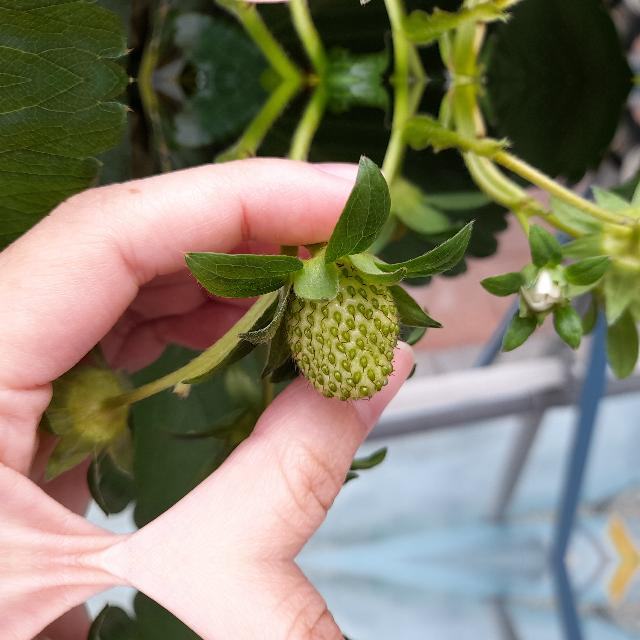Health_25: (283, 261, 403, 403)
